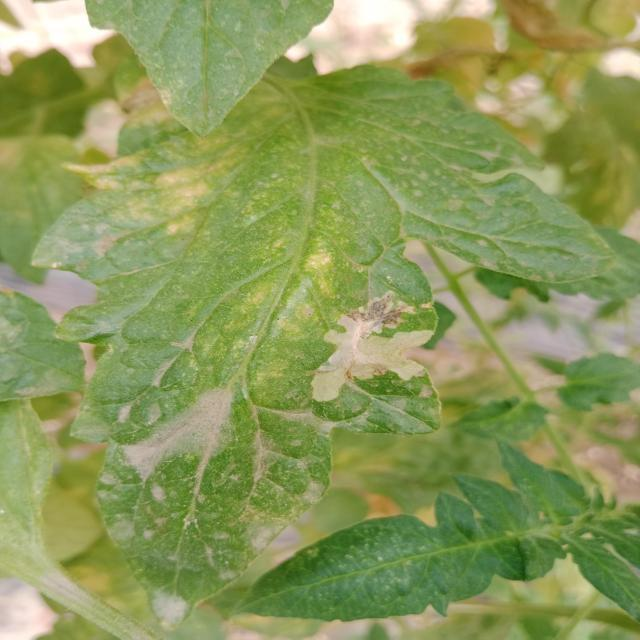Tuta absoluta: (291, 283, 443, 405)
